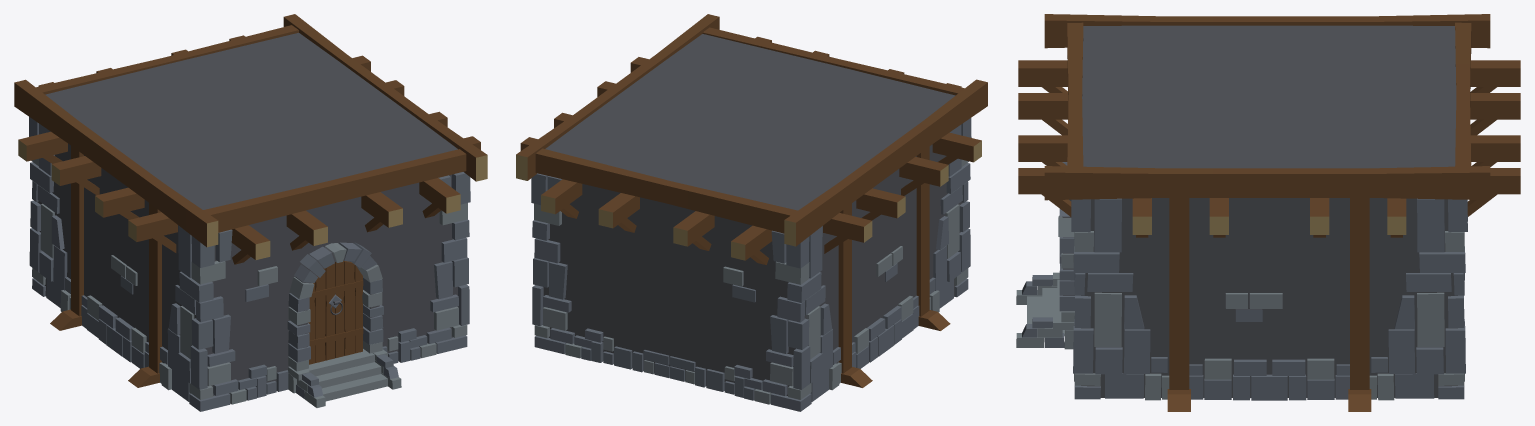
Rendered from b_house_4.glb.
3 renders of one model, left to right at view 1: azimuth 30°, elevation 25°; view 2: azimuth 150°, elevation 25°; view 3: azimuth 270°, elevation 25°, orthographic. The views are drawn at different scales.
Parts seen in each view (by area): view 1: House_4; view 2: House_4; view 3: House_4.
Boxes of the visible parts, x1,y1,x2,y2 form: House_4: [14, 14, 487, 411]; House_4: [516, 14, 987, 411]; House_4: [1016, 14, 1520, 411].
Bounding box in the file's own units: 1.94 × 1.07 × 2.12.
